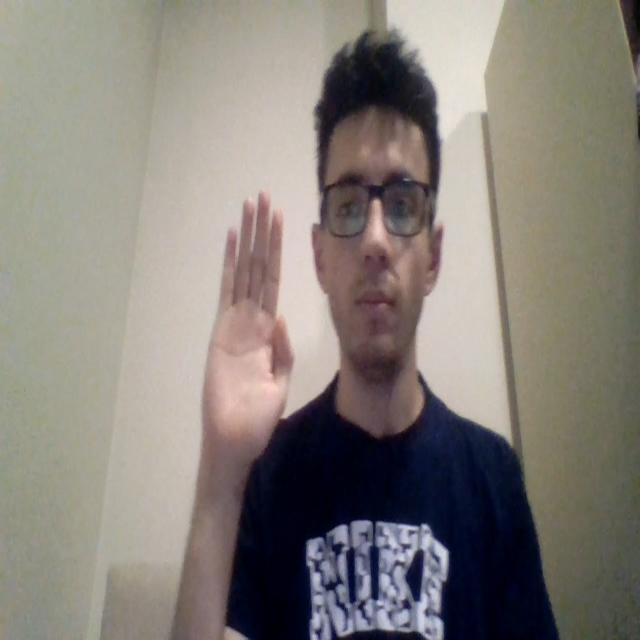hello: (198, 188, 294, 491)
